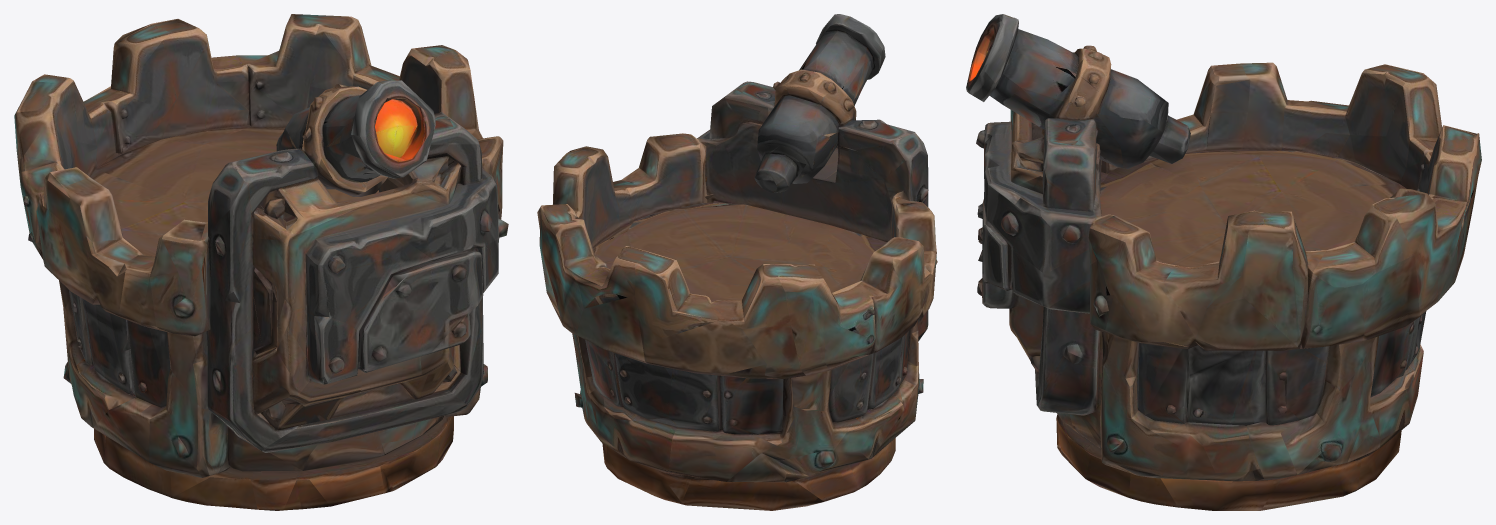
The model's file is 10_crown_nest.glb.
The picture shows the model from 3 angles, left to right: view 1: azimuth 30°, elevation 25°; view 2: azimuth 150°, elevation 25°; view 3: azimuth 270°, elevation 25°; orthographic projection. The views are drawn at different scales.
Visible parts, largest first — view 1: output_unwrapped; view 2: output_unwrapped; view 3: output_unwrapped.
Boxes of the visible parts, x1,y1,x2,y2 form: output_unwrapped: (14,14,508,510); output_unwrapped: (537,14,937,510); output_unwrapped: (966,14,1481,510).
Size of the model in its own units: 1.68 by 1.73 by 1.9.
Materials: 1 (1 with a texture image).
